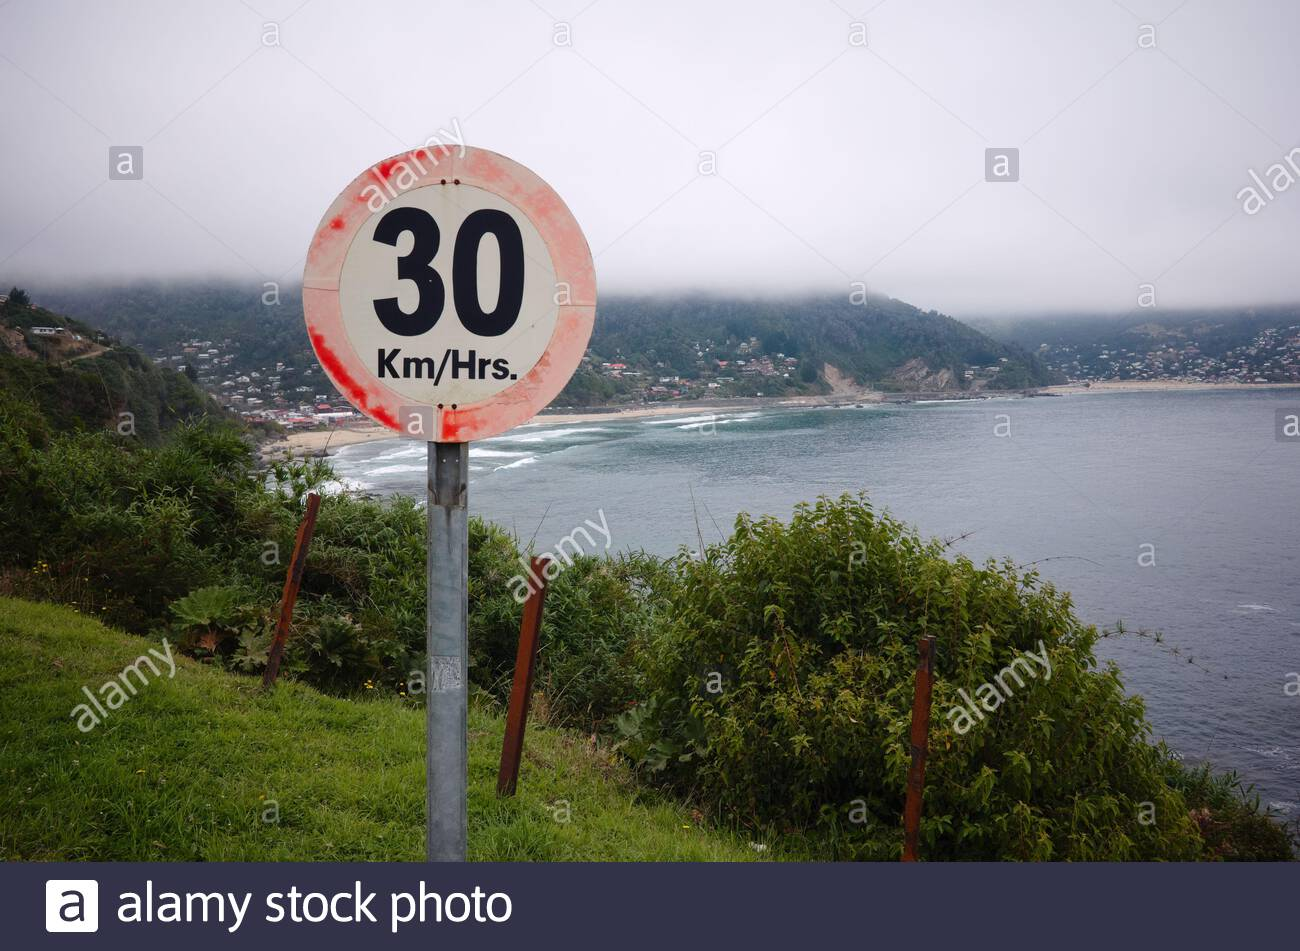speed_limit_30: (297, 142, 597, 447)
